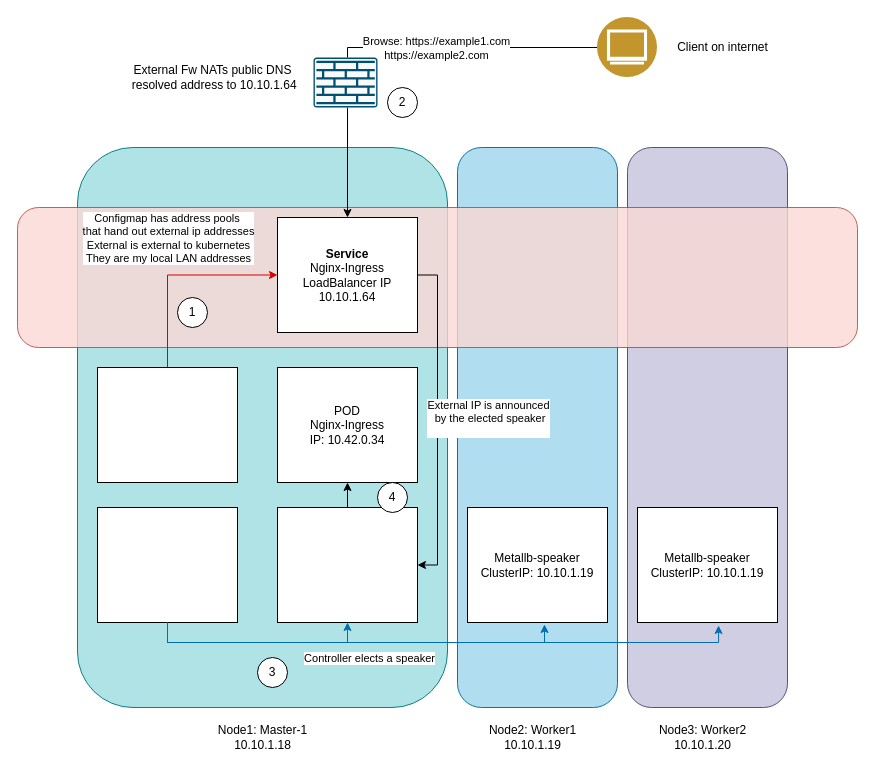
Some shapes in this 875 by 774 pixel diagram are drawn without their labels. The centre of each missing label's shape, as x and y in pixels:
Elected POD Metallb-speaker ClusterIP: 10.10.1.18: [347,564]
Metallb Config-map AddressPools: - default - dns -web etc.: [167,424]
POD Metallb-controller Cluster IP: 10.42.0.17 Webhook IP: 10.43.164.8: [167,564]
